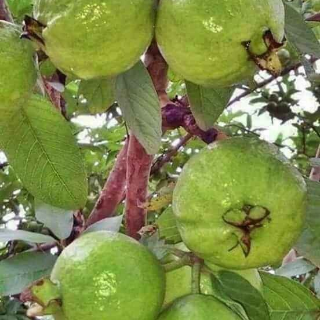oi: (174, 139, 303, 270)
